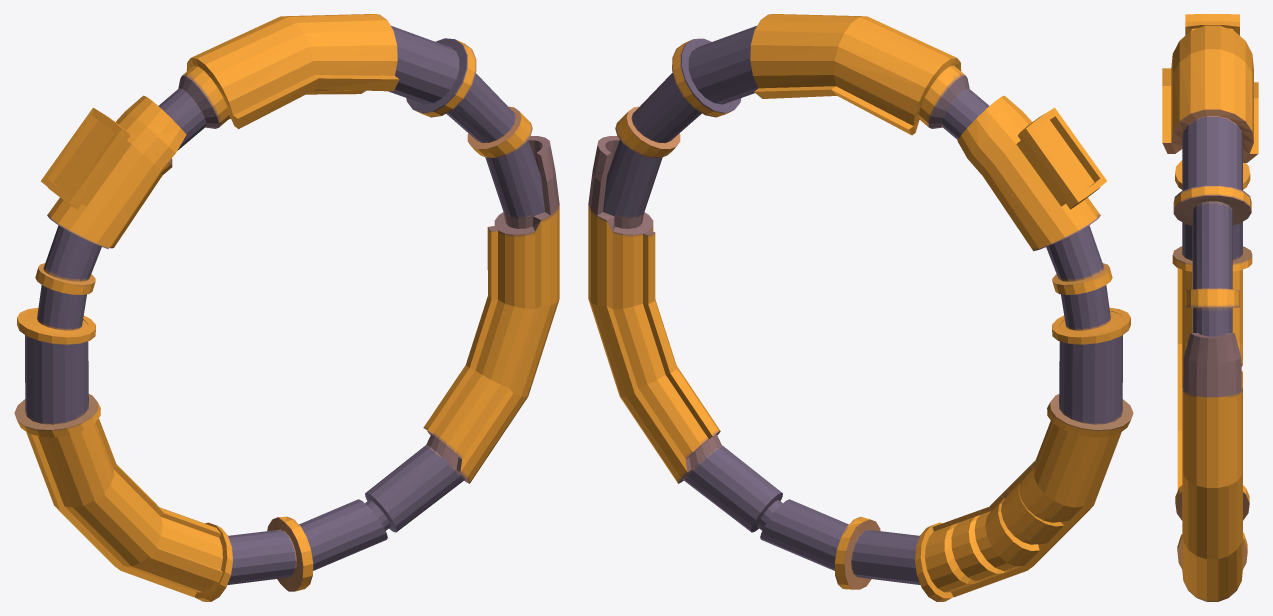
The model's file is portal.fbx.
3 views of the same model, side by side, from view 1: azimuth 30°, elevation 25°; view 2: azimuth 150°, elevation 25°; view 3: azimuth 270°, elevation 25° (orthographic). The views are drawn at different scales.
Visible parts, largest first — view 1: Warp_Gate; view 2: Warp_Gate; view 3: Warp_Gate.
Part boxes in pixels (x1,y1,x2,y2): Warp_Gate: (14, 14, 559, 601); Warp_Gate: (588, 14, 1133, 601); Warp_Gate: (1162, 14, 1258, 601).
Size of the model in its own units: 20.1 by 20.4 by 3.33.
Materials: 1 (1 with a texture image).
